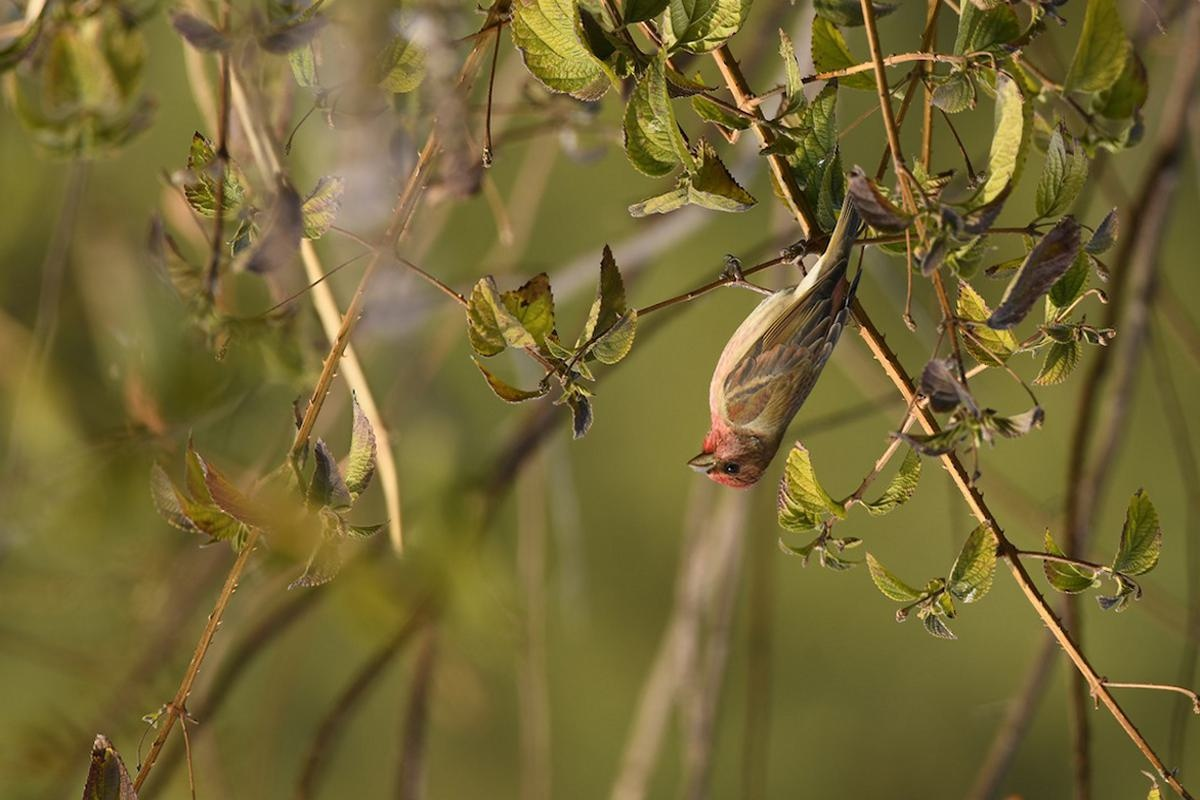rosefinch: (685, 200, 866, 498)
